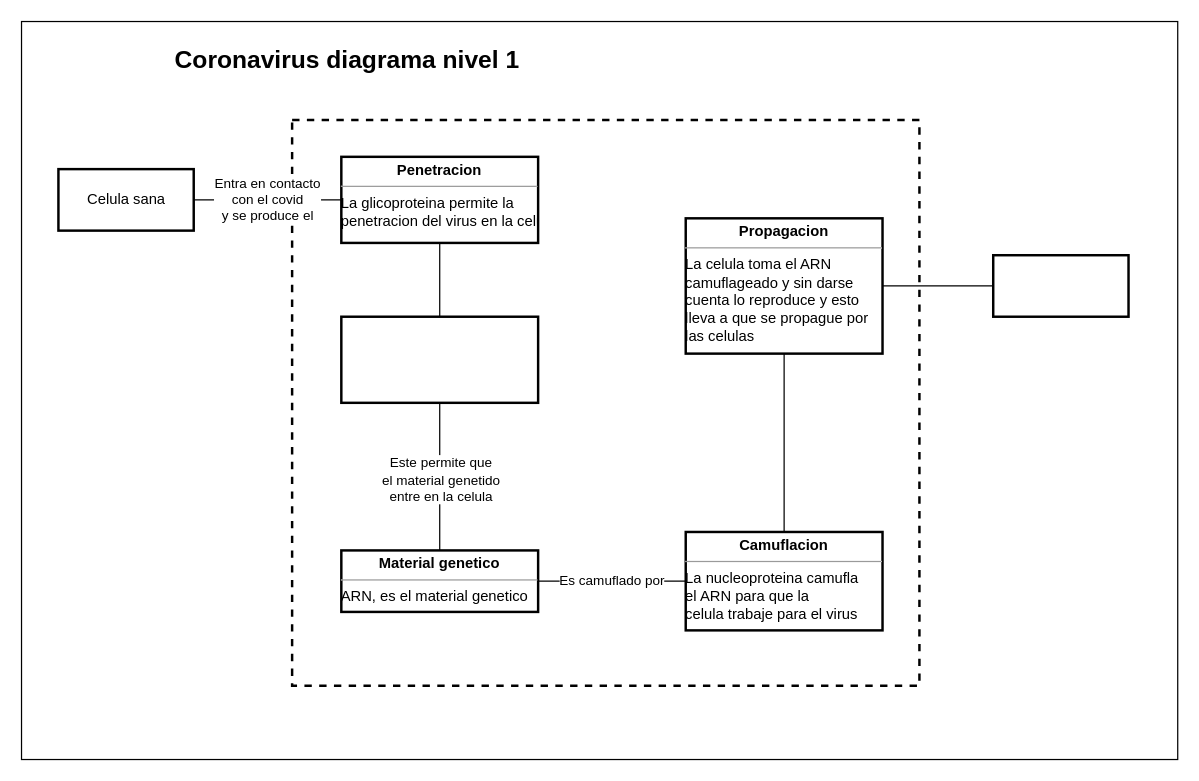
The diagram is 1199 pixels wide and 781 high, and some of its shapes have lost their labels. Here are the shapes that lost their labels. From the top down, the centre of each, then its label:
point (1060, 285): Celula infectada.
point (439, 359): Emsable La proteina E permite el ensamble con el virus
